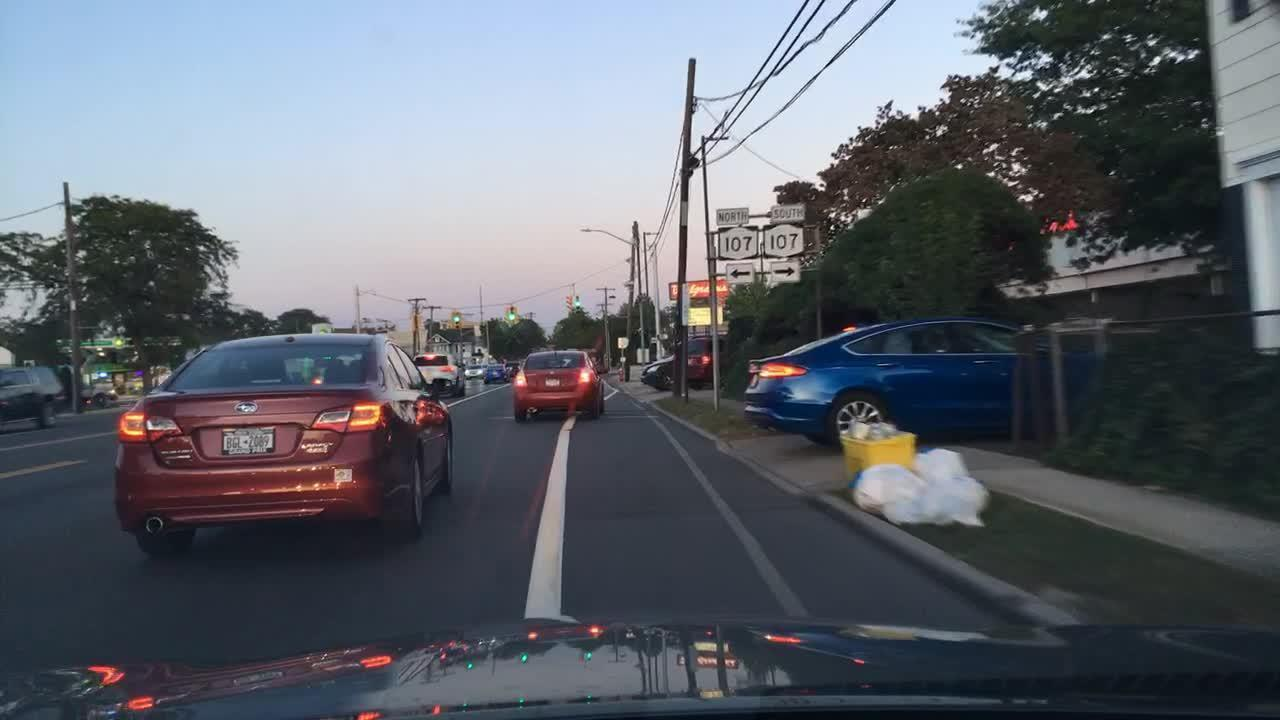subaru: (232, 399, 260, 416)
